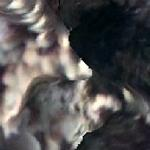alive: (4, 6, 146, 148)
